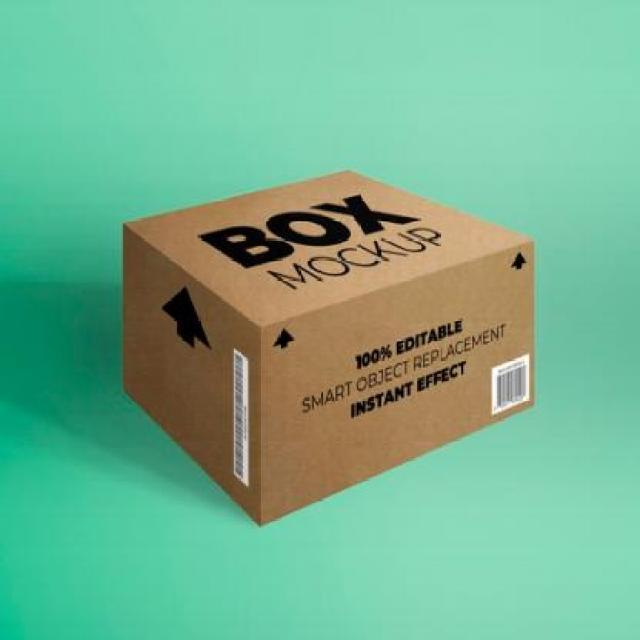box: (123, 168, 538, 528)
